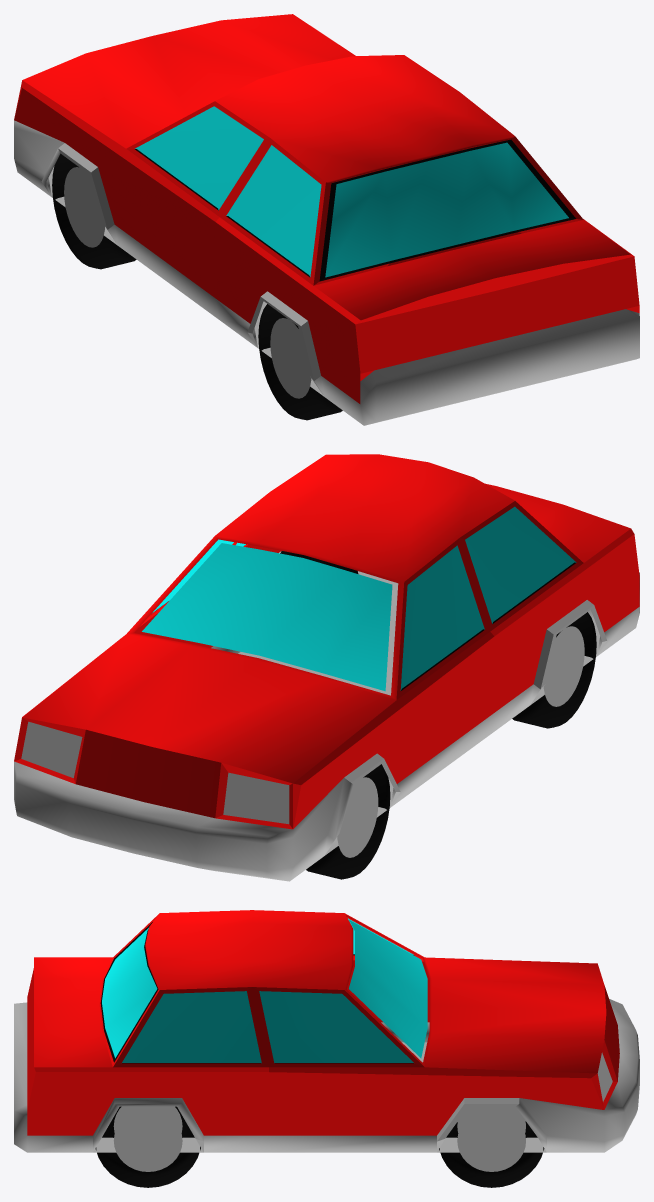
The model's file is Rotated_Car.obj.
3 renders of one model, top to bottom at view 1: azimuth 30°, elevation 25°; view 2: azimuth 150°, elevation 25°; view 3: azimuth 270°, elevation 25°, orthographic. The views are drawn at different scales.
Parts seen in each view (by area): view 1: Car_Cube; view 2: Car_Cube; view 3: Car_Cube.
Boxes of the visible parts, box(x1,y1,x2,y2) form: Car_Cube: box(14, 14, 639, 425); Car_Cube: box(14, 454, 639, 881); Car_Cube: box(14, 910, 639, 1187).
Bounding box in the file's own units: 2.1 × 1.59 × 4.66.
